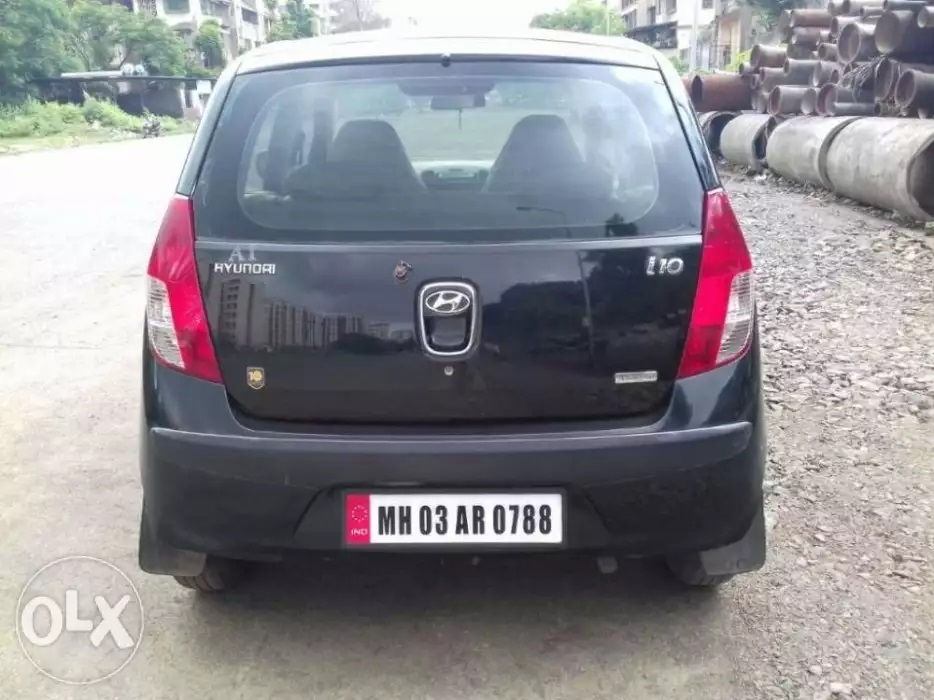licenseplate: (340, 490, 564, 550)
